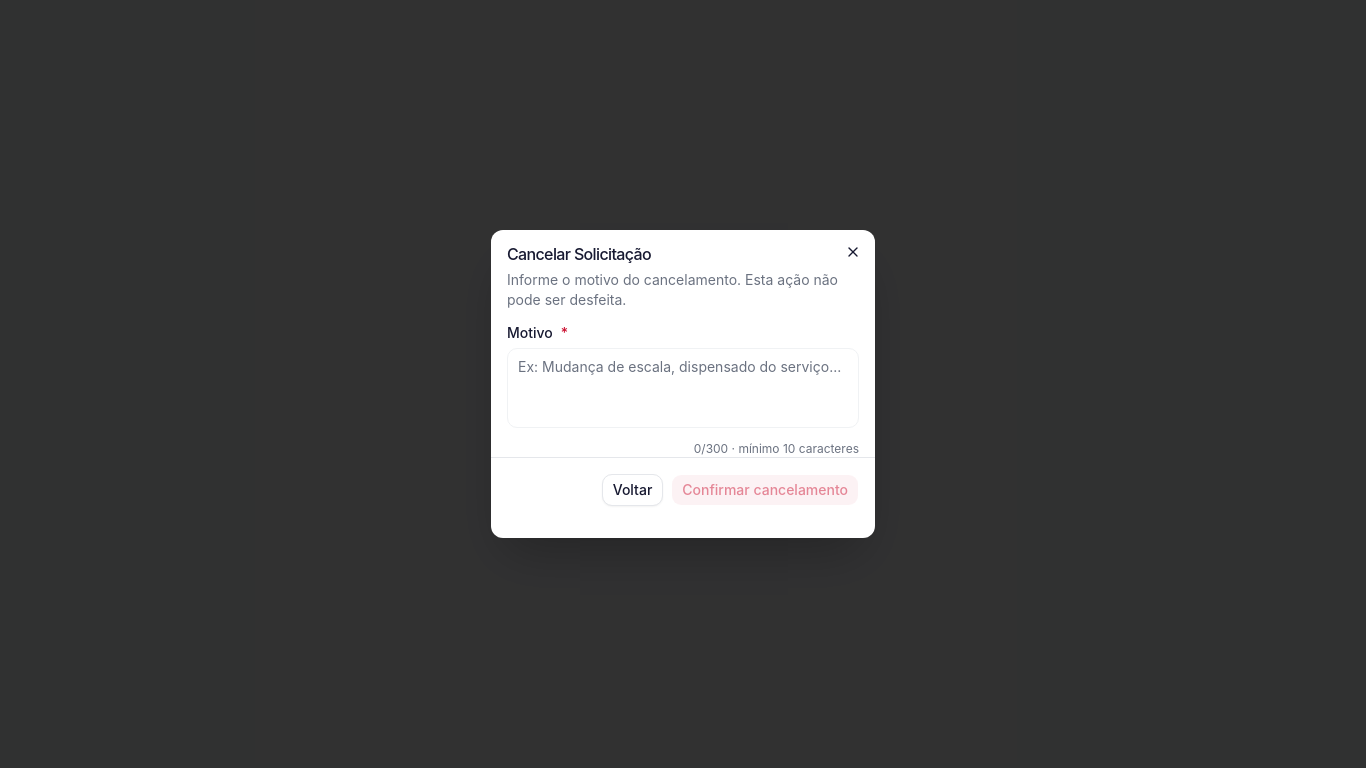
Test: CancelRequestDialog › botão de confirmar começa desabilitado e só habilita com >=10 caracteres
Expected: the button with test id "btn-confirm-cancel" is disabled, [671,474,859,506]
Type "curto" into the text box with test id "ssa-cancel-reason".
click(683, 388); type("curto")  # box [507,348,859,428]
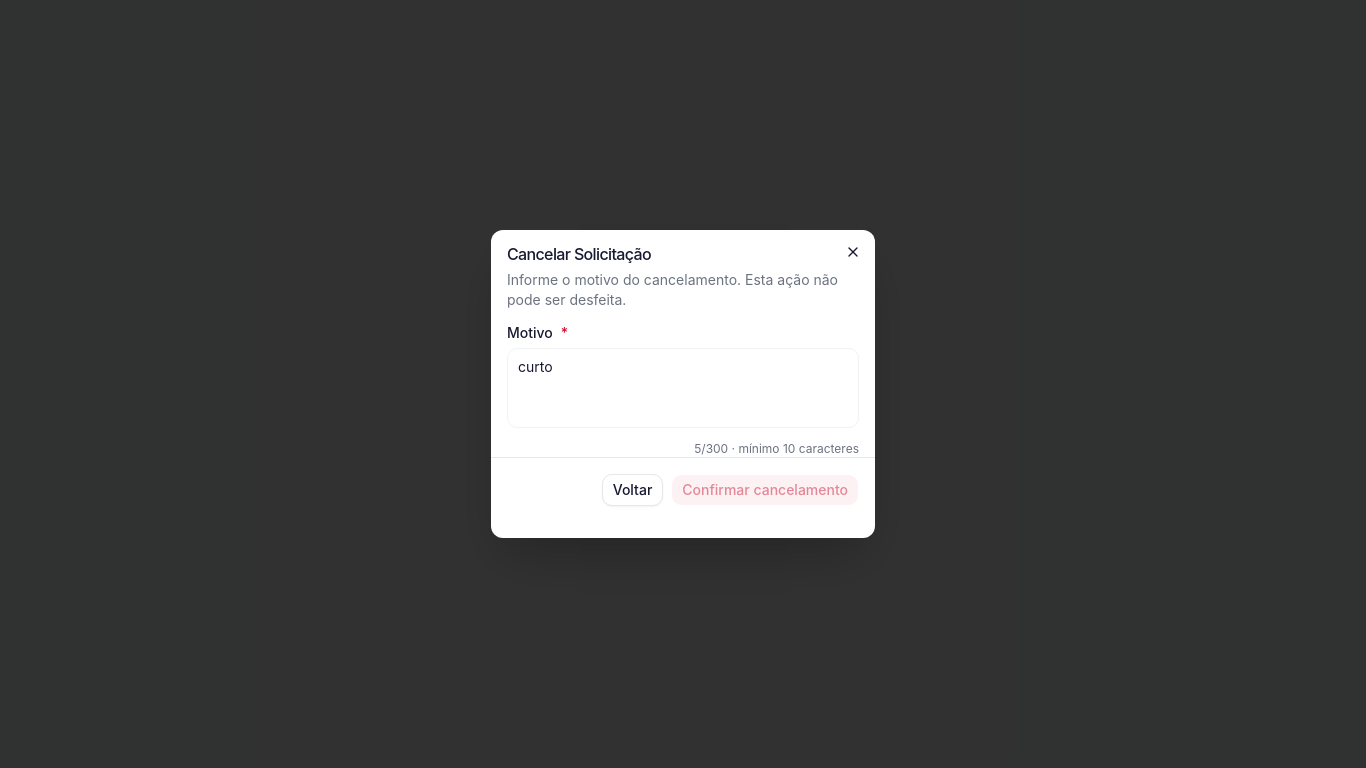
Expected: the button with test id "btn-confirm-cancel" is disabled, [671,474,859,506]
Replace the text in the text box with test id "ssa-cancel-reason" with "motivo com mais de dez caracteres" at coordinates (683, 388), box [507,348,859,428]
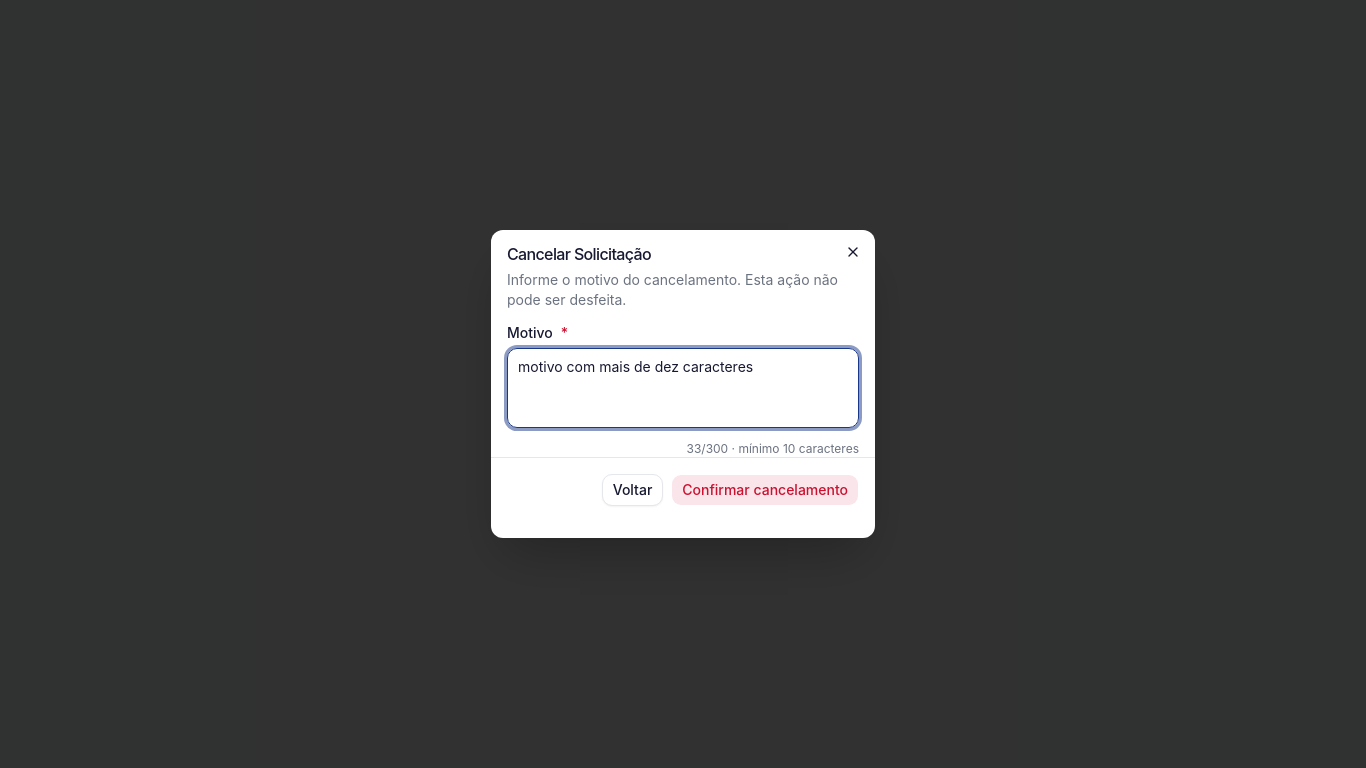
Expected: the button with test id "btn-confirm-cancel" is enabled, [671,474,859,506]
